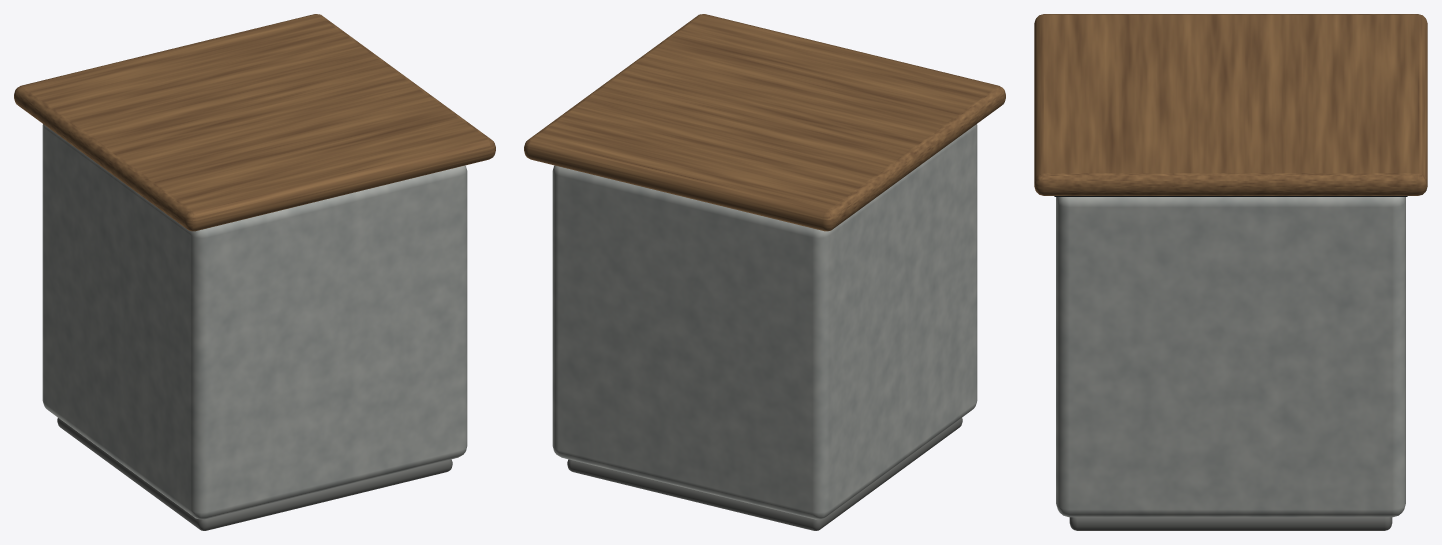
The model's file is industrial_loft_central_pedestal.glb.
3 views of the same model, side by side, from view 1: azimuth 30°, elevation 25°; view 2: azimuth 150°, elevation 25°; view 3: azimuth 270°, elevation 25° (orthographic). The views are drawn at different scales.
Visible parts, largest first — view 1: central_pedestal.001; view 2: central_pedestal.001; view 3: central_pedestal.001.
Boxes of the visible parts, x1,y1,x2,y2 form: central_pedestal.001: [14, 14, 495, 530]; central_pedestal.001: [524, 14, 1005, 530]; central_pedestal.001: [1034, 14, 1427, 530].
Bounding box in the file's own units: 0.72 × 0.75 × 0.72.
Materials: 4 (4 with a texture image).
